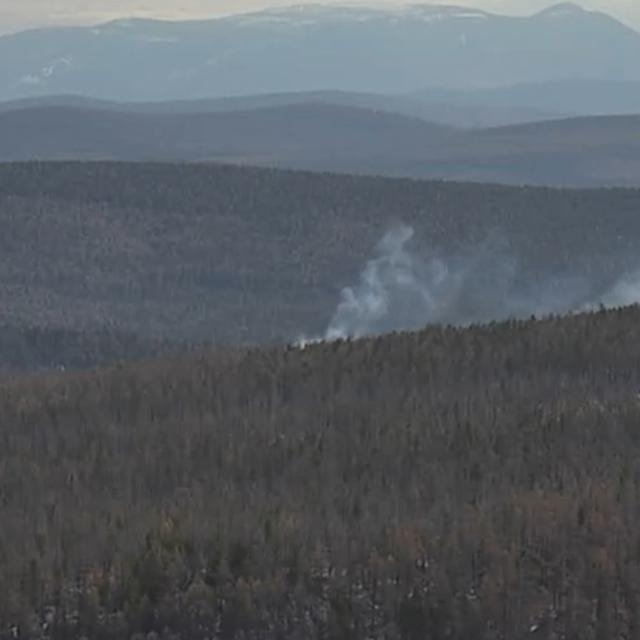Smoke: (287, 216, 640, 351)
